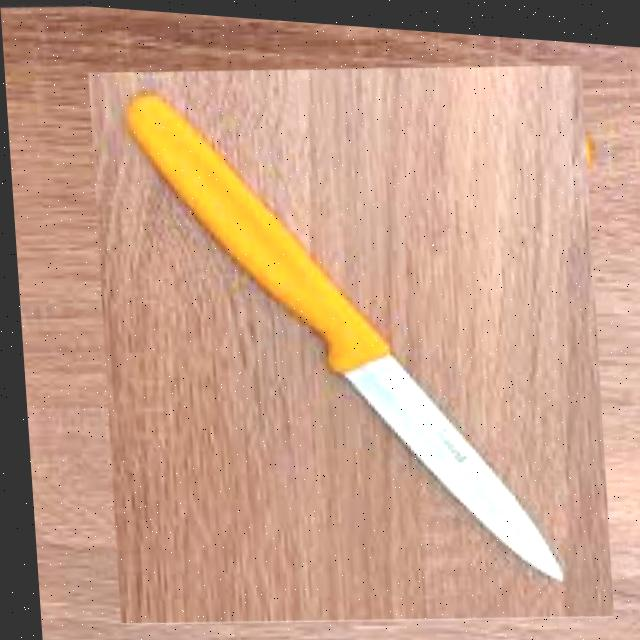knife: (69, 37, 625, 629)
